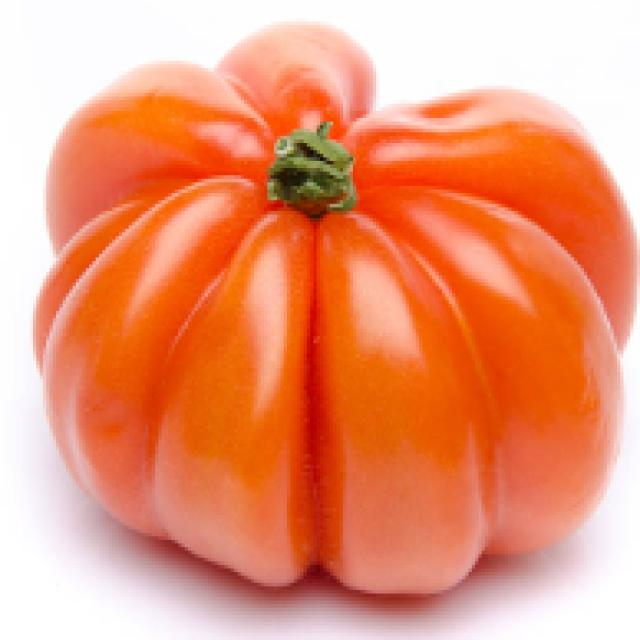Tomato: (34, 34, 627, 594)
